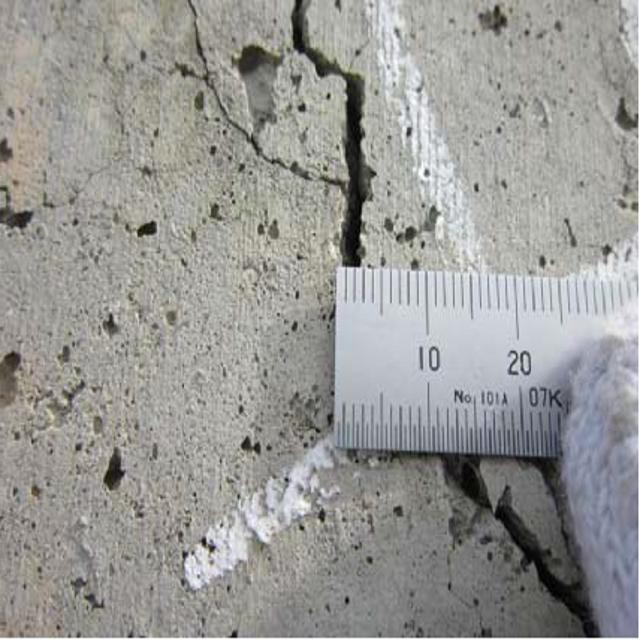crack: (175, 4, 398, 273), (417, 468, 606, 623)
